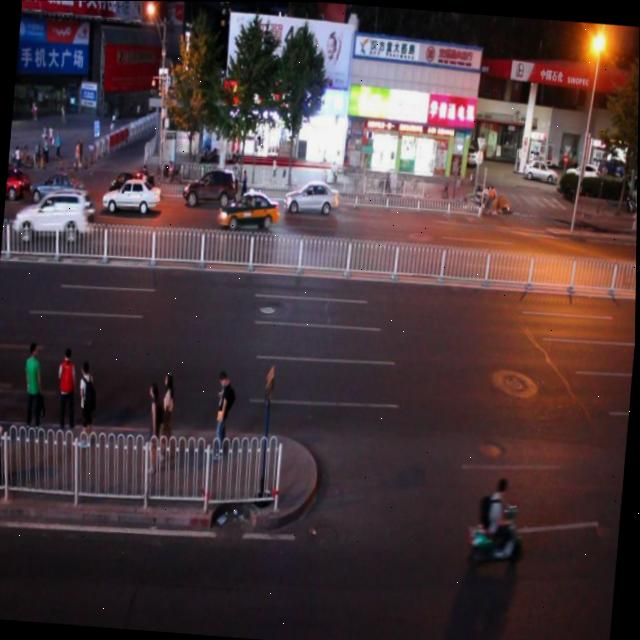car: (13, 183, 92, 245), (218, 184, 280, 232), (103, 173, 162, 216), (182, 162, 239, 206), (285, 176, 339, 216), (29, 168, 85, 205), (110, 165, 150, 204), (6, 164, 30, 200)
